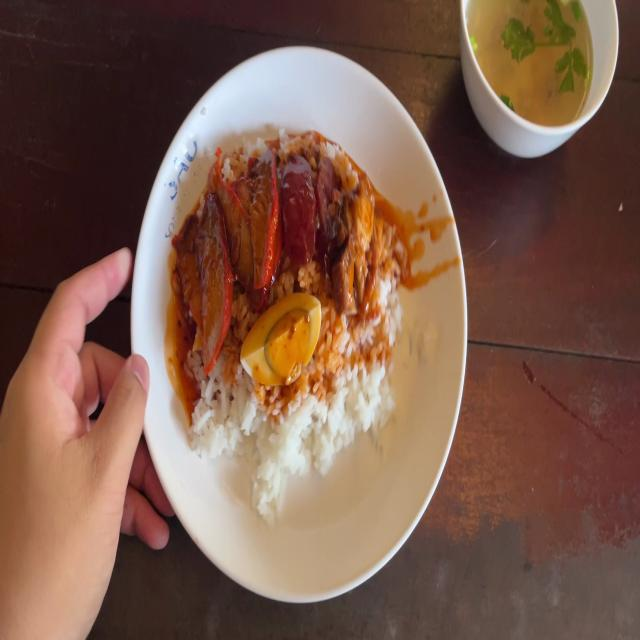01boiled_egg: (250, 289, 318, 380)
01chainese_sausage: (281, 153, 341, 251)
01crispy_pork: (345, 166, 384, 326)
01red_pork: (187, 149, 275, 339)
01red_pork_and_crispy_pork: (182, 139, 400, 468)
01rice: (245, 383, 336, 499), (324, 329, 394, 439), (201, 367, 251, 466)
